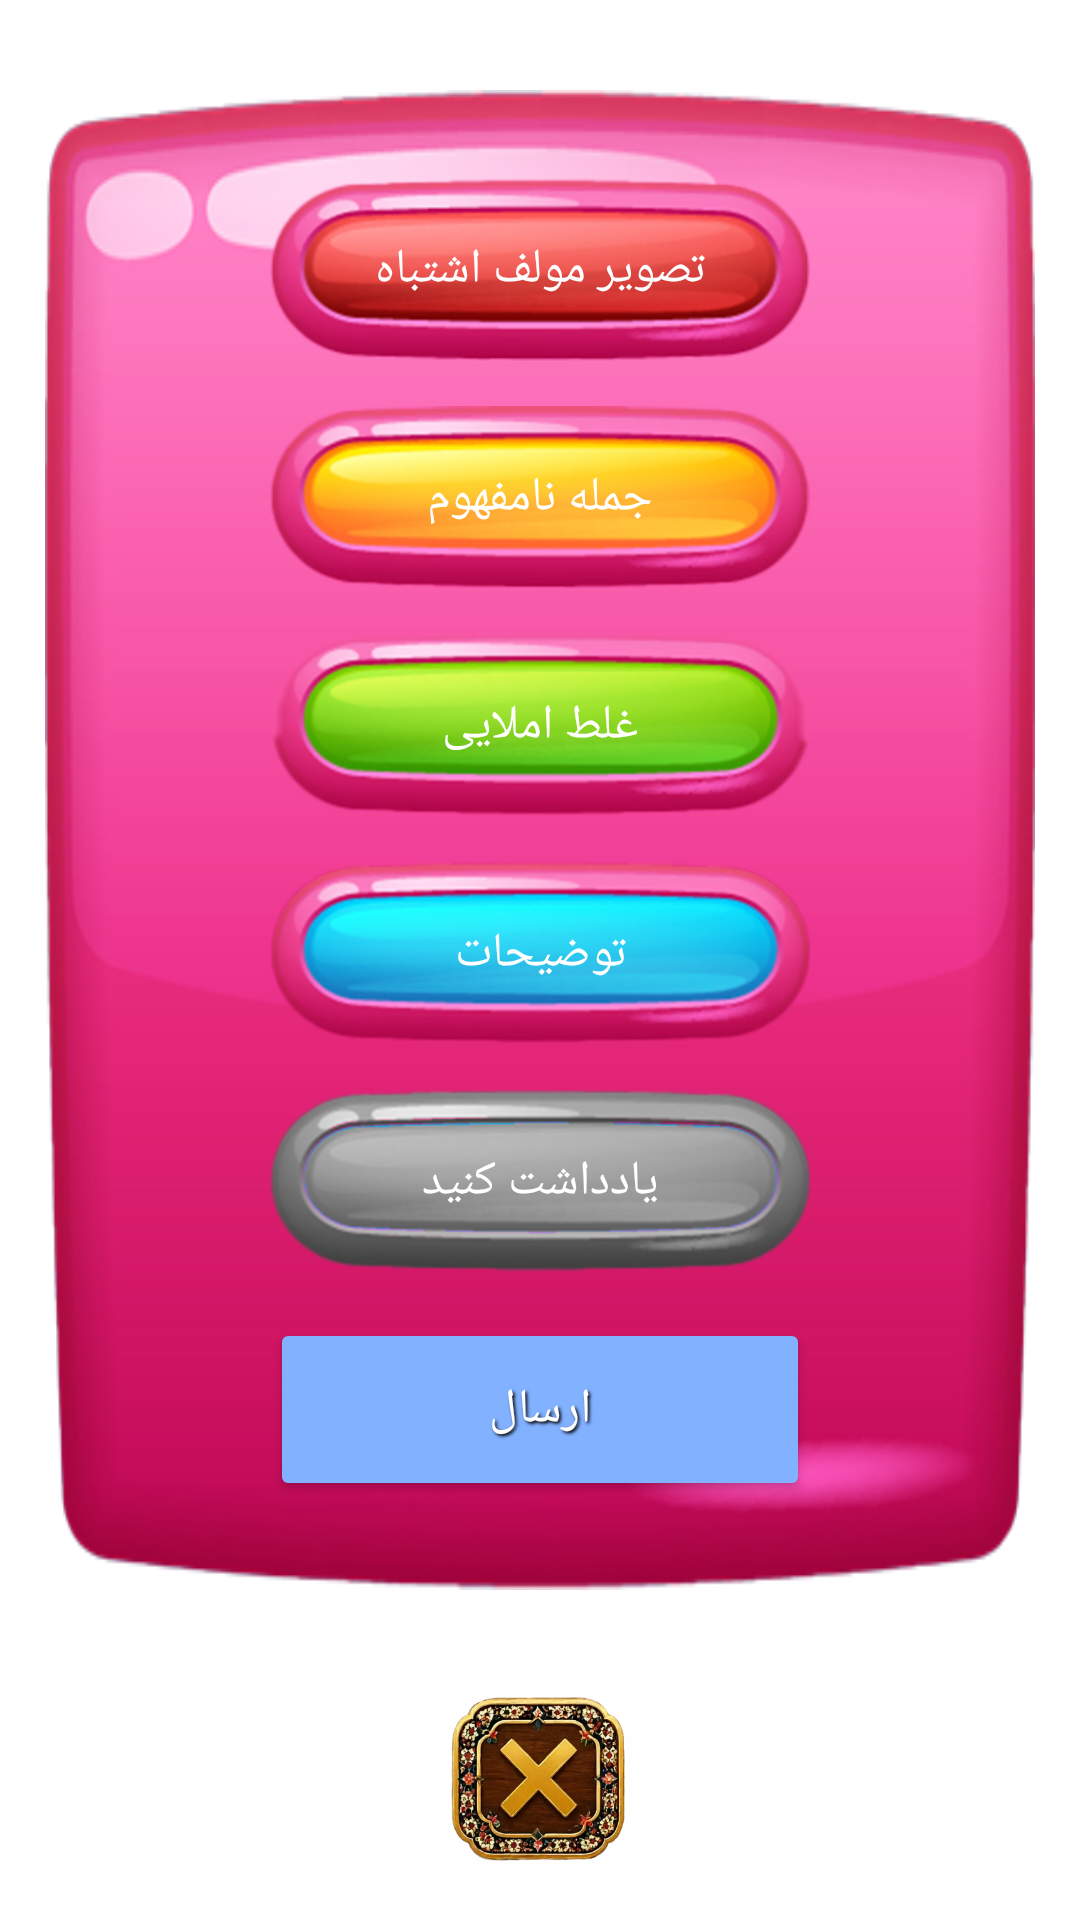

Screen size 1080w x 1920h. Icon name, then its center in pixels as (x,y):
close: (538,1779)
